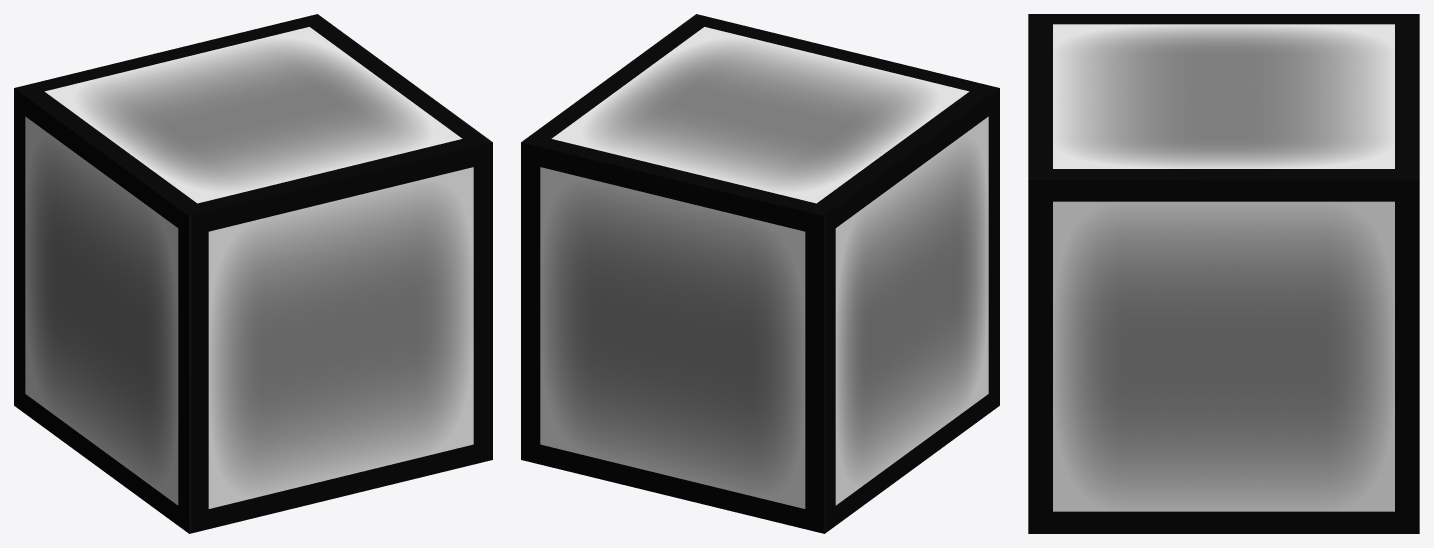
The model's file is Artifact_01.fbx.
3 renders of one model, left to right at view 1: azimuth 30°, elevation 25°; view 2: azimuth 150°, elevation 25°; view 3: azimuth 270°, elevation 25°, orthographic. The views are drawn at different scales.
Parts seen in each view (by area): view 1: Cube; view 2: Cube; view 3: Cube.
Part boxes in pixels (box(x1,y1,x2,y2)): Cube: box(14, 14, 492, 533); Cube: box(521, 14, 999, 533); Cube: box(1028, 14, 1419, 533).
Bounding box in the file's own units: 48.6 × 48.6 × 48.6.
